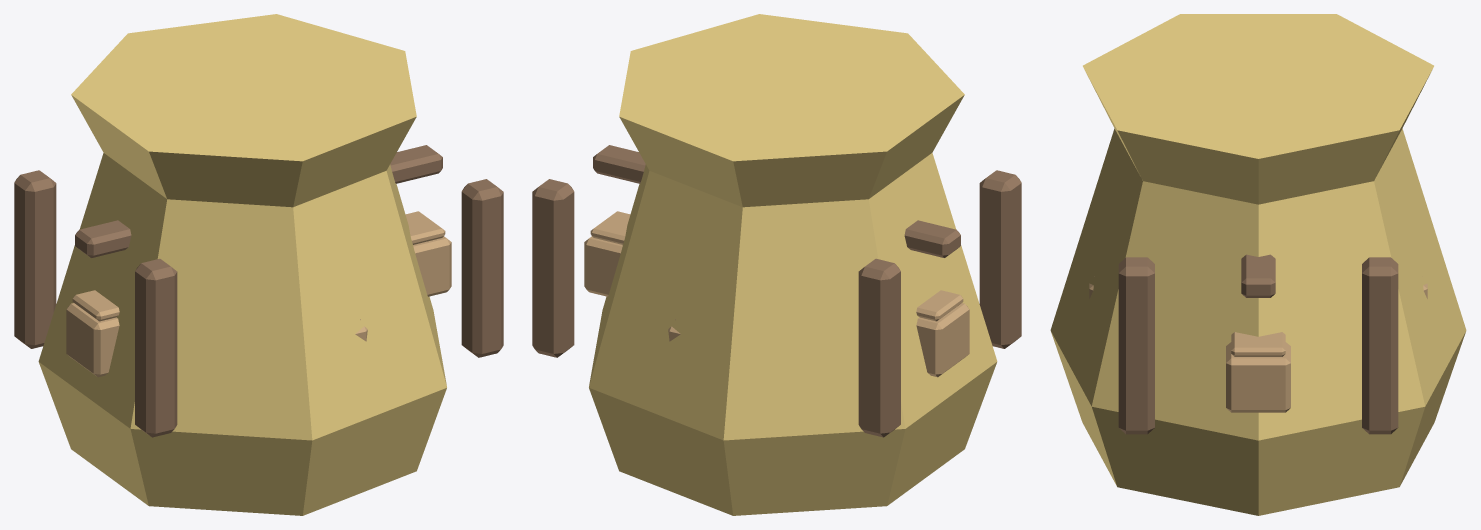
The model's file is table_and_stools.glb.
The picture shows the model from 3 angles, left to right: view 1: azimuth 30°, elevation 25°; view 2: azimuth 150°, elevation 25°; view 3: azimuth 270°, elevation 25°; orthographic projection.
Visible parts, largest first — view 1: table_and_stools_2, table_and_stools_0, table_and_stools_1; view 2: table_and_stools_2, table_and_stools_0, table_and_stools_1; view 3: table_and_stools_2, table_and_stools_0, table_and_stools_1.
Part boxes in pixels (x1,y1,x2,y2): table_and_stools_2: (38, 14, 446, 515); table_and_stools_0: (14, 145, 503, 437); table_and_stools_1: (66, 211, 451, 377); table_and_stools_2: (589, 14, 997, 515); table_and_stools_0: (532, 145, 1021, 437); table_and_stools_1: (584, 211, 969, 377); table_and_stools_2: (1050, 14, 1466, 515); table_and_stools_0: (1118, 254, 1398, 434); table_and_stools_1: (1089, 276, 1427, 412).
Bounding box in the file's own units: 2 × 1.89 × 2.
